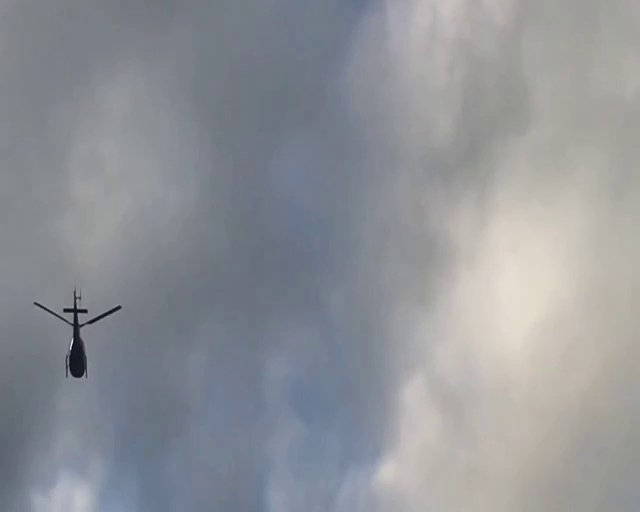HELICOPTER: (32, 285, 122, 379)
